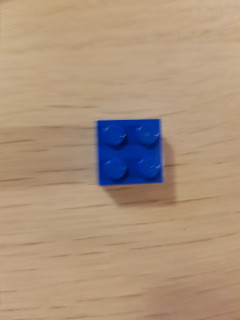2x2 blue: (91, 116, 167, 188)
